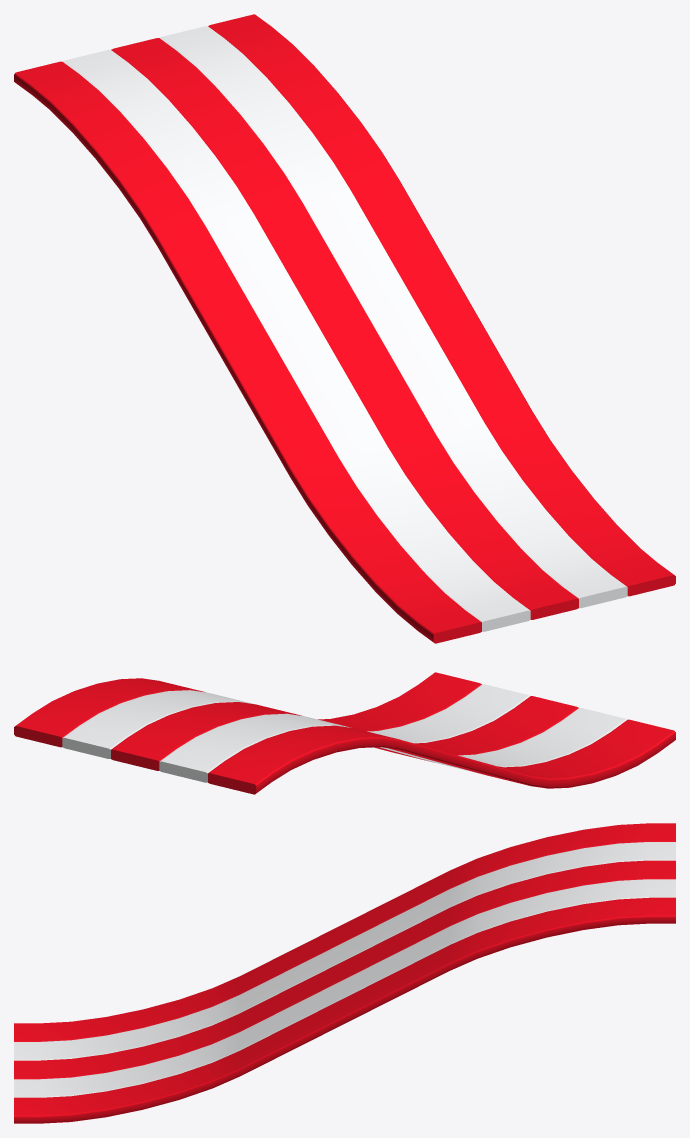
File: platform_candy_003.glb
The picture shows the model from 3 angles, top to bottom: view 1: azimuth 30°, elevation 25°; view 2: azimuth 150°, elevation 25°; view 3: azimuth 270°, elevation 25°; orthographic projection. The views are drawn at different scales.
Parts seen in each view (by area): view 1: platform_candy_003; view 2: platform_candy_003; view 3: platform_candy_003.
Boxes of the visible parts, x1=… form: platform_candy_003: x1=14, y1=14, x2=675, y2=643; platform_candy_003: x1=14, y1=672, x2=675, y2=794; platform_candy_003: x1=14, y1=823, x2=675, y2=1123.
Size of the model in its own units: 12 by 12.5 by 36.
1 material, 1 textured.
